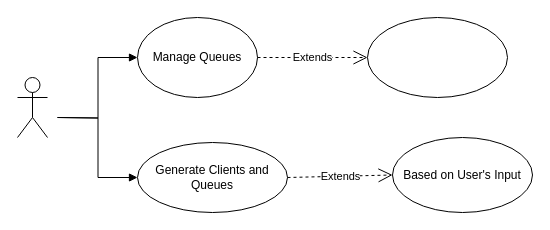
Some shapes in this 550 by 230 pixel diagram are drawn without their labels. The shapes that lost their labels are listed below. From the top down, each one's centre as x and y in pixels, then its label:
point (437, 57): Minimal Waiting Time
point (32, 107): User
